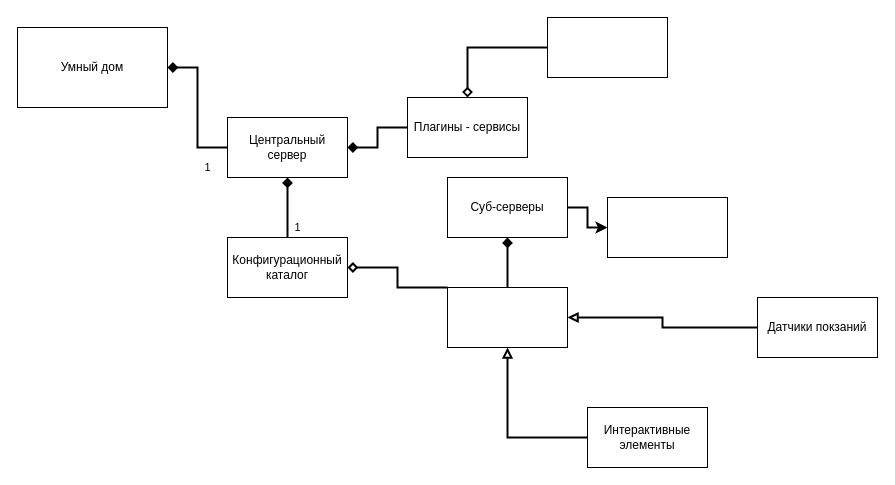
Image size: 895x485. Some labels were removed from this diagram. Each missing label, with the centre of its shape:
Заводские устройства: [607,47]
Контроллеры: [507,317]
Протокол подключения: [667,227]
